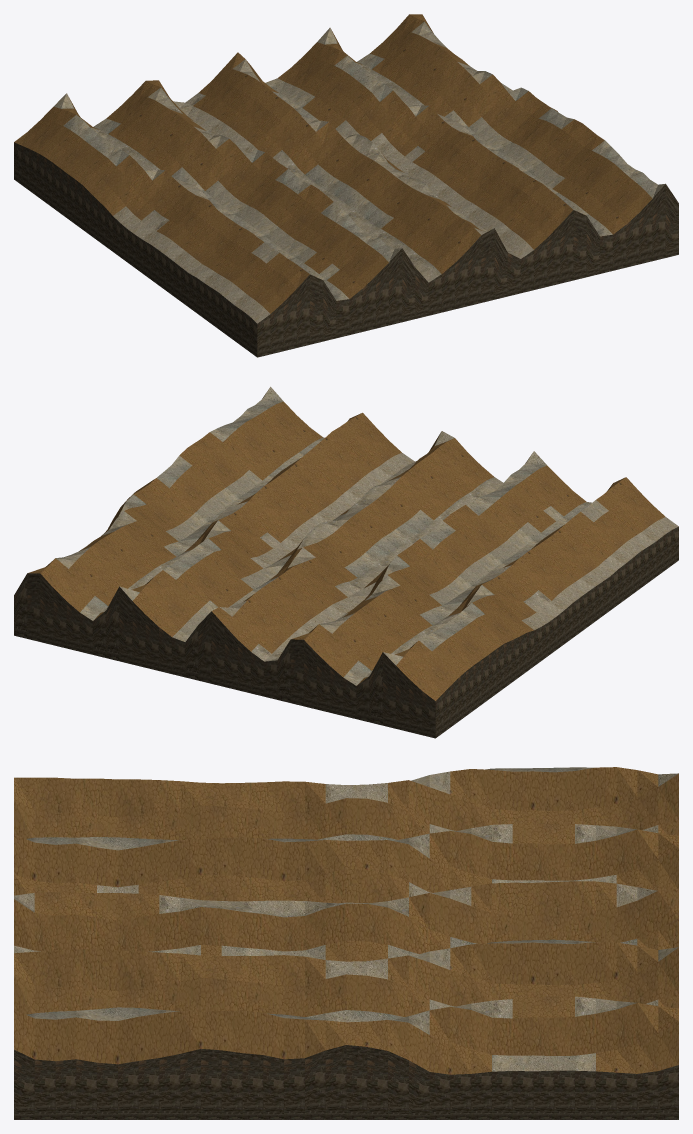
The model's file is dune_01.glb.
3 renders of one model, top to bottom at view 1: azimuth 30°, elevation 25°; view 2: azimuth 150°, elevation 25°; view 3: azimuth 270°, elevation 25°, orthographic. The views are drawn at different scales.
Parts seen in each view (by area): view 1: dune_01; view 2: dune_01; view 3: dune_01.
Part boxes in pixels (x1,y1,x2,y2): dune_01: (14,14,678,357); dune_01: (14,386,678,738); dune_01: (14,767,678,1119).
Bounding box in the file's own units: 16 × 2.72 × 16.
3 materials, 3 textured.
